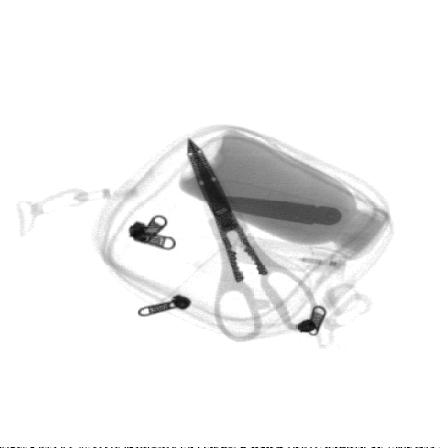Knife: (203, 196, 342, 225)
Scissors: (188, 137, 319, 342)
